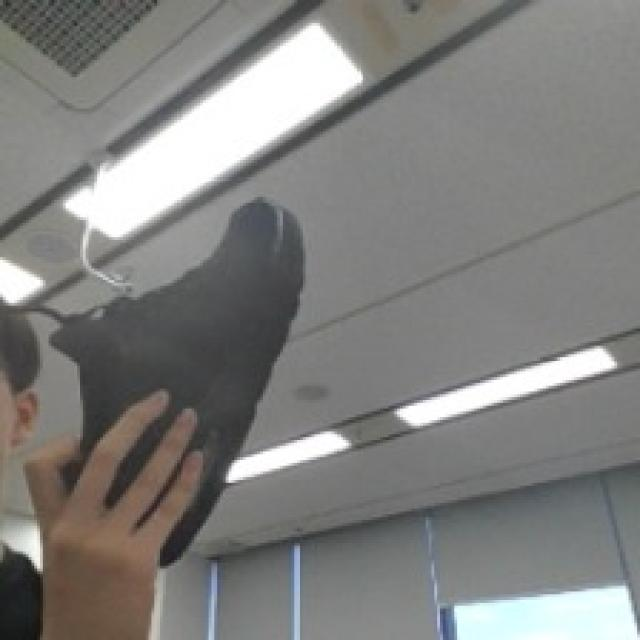shoe: (53, 201, 308, 562)
